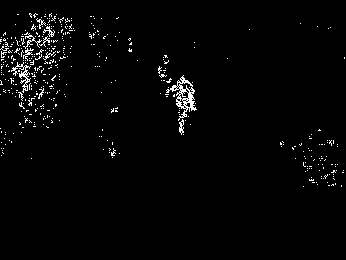person: (170, 78, 199, 135)
